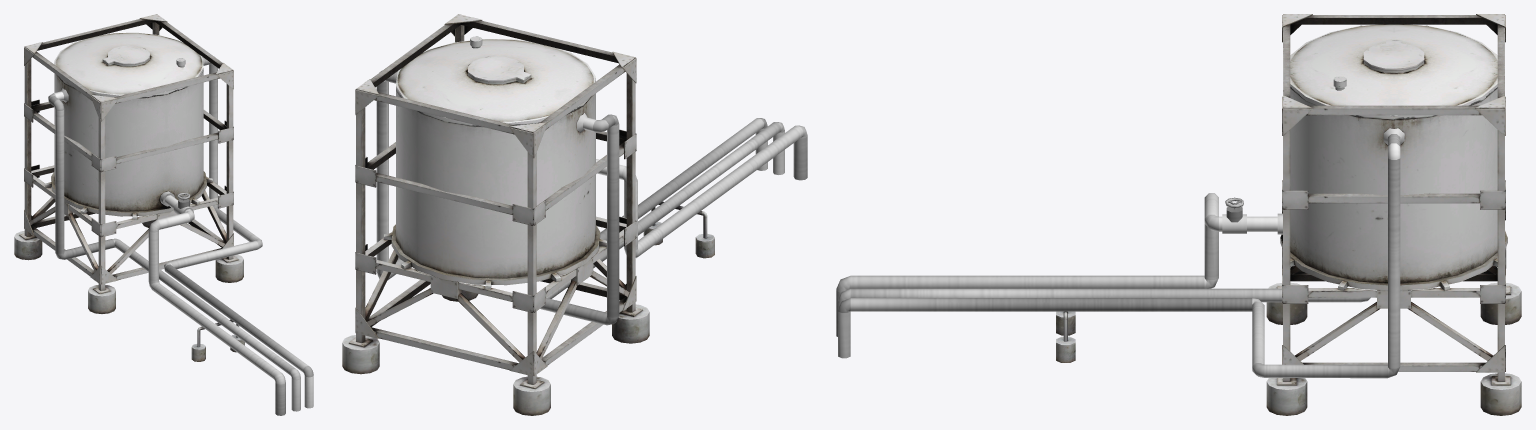
The model's file is S_Cistern_01.dae.
3 views of the same model, side by side, from view 1: azimuth 30°, elevation 25°; view 2: azimuth 150°, elevation 25°; view 3: azimuth 270°, elevation 25° (orthographic). The views are drawn at different scales.
Parts seen in each view (by area): view 1: S_Cistern_01.004, S_Cistern_01.003; view 2: S_Cistern_01.004, S_Cistern_01.003; view 3: S_Cistern_01.004, S_Cistern_01.003.
Part boxes in pixels (bbox=[...]): S_Cistern_01.004: bbox=[14, 14, 244, 361]; S_Cistern_01.003: bbox=[48, 56, 313, 415]; S_Cistern_01.004: bbox=[342, 14, 714, 415]; S_Cistern_01.003: bbox=[376, 71, 807, 325]; S_Cistern_01.004: bbox=[1056, 14, 1521, 415]; S_Cistern_01.003: bbox=[836, 128, 1404, 378].
Bounding box in the file's own units: 1.57 × 3.78 × 1.87.
